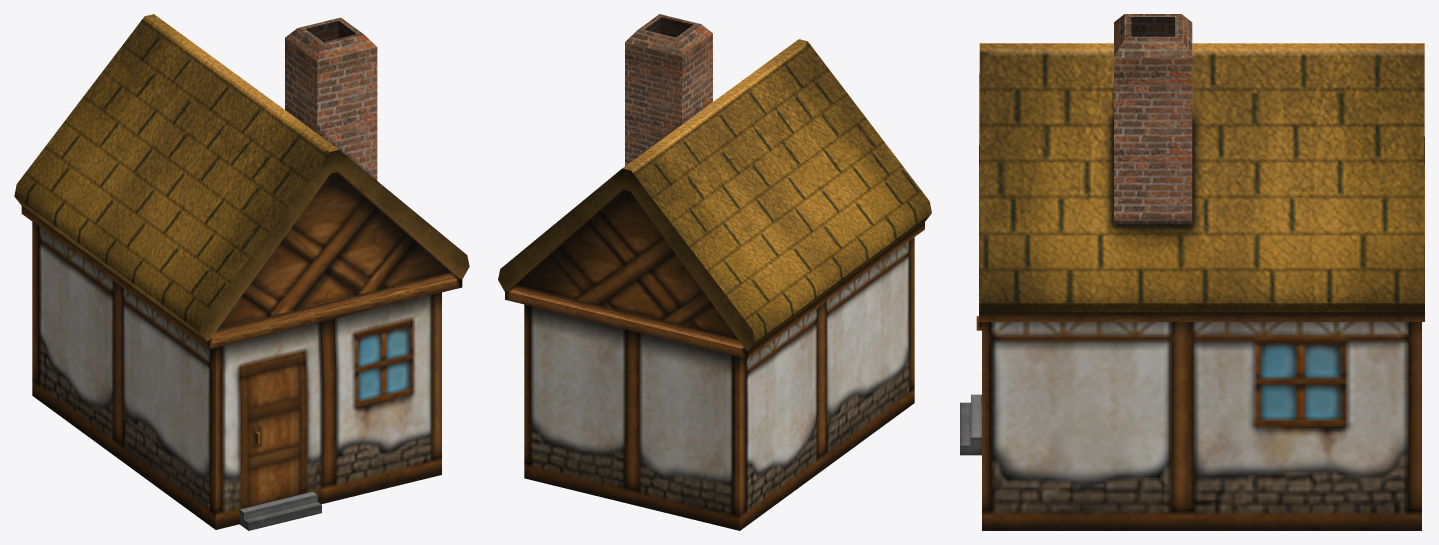
Rendered from house_yellow.fbx.
The picture shows the model from 3 angles, left to right: view 1: azimuth 30°, elevation 25°; view 2: azimuth 150°, elevation 25°; view 3: azimuth 270°, elevation 25°; orthographic projection. The views are drawn at different scales.
Visible parts, largest first — view 1: yerow; view 2: yerow; view 3: yerow.
Part boxes in pixels (left/top/right/bottom): yerow: left=14, top=14, right=469, bottom=530; yerow: left=498, top=14, right=931, bottom=530; yerow: left=960, top=14, right=1424, bottom=530.
Size of the model in its own units: 0.3582 by 0.5088 by 0.4457.
